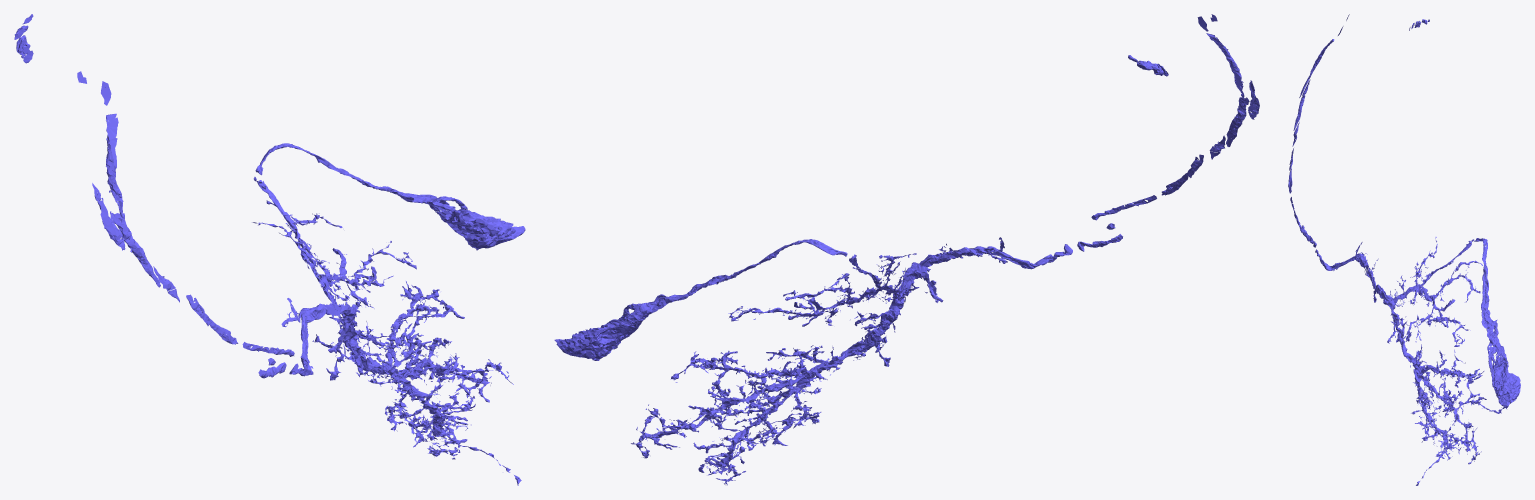
Rendered from VFB_fw000517.glb.
3 views of the same model, side by side, from view 1: azimuth 30°, elevation 25°; view 2: azimuth 150°, elevation 25°; view 3: azimuth 270°, elevation 25° (orthographic). The views are drawn at different scales.
Parts seen in each view (by area): view 1: VFB_fw000517; view 2: VFB_fw000517; view 3: VFB_fw000517.
Part boxes in pixels (<box>): VFB_fw000517: <box>14,14,525,485</box>; VFB_fw000517: <box>554,14,1259,485</box>; VFB_fw000517: <box>1288,14,1520,485</box>.
Size of the model in its own units: 0.1053 by 0.0978 by 0.0619.
